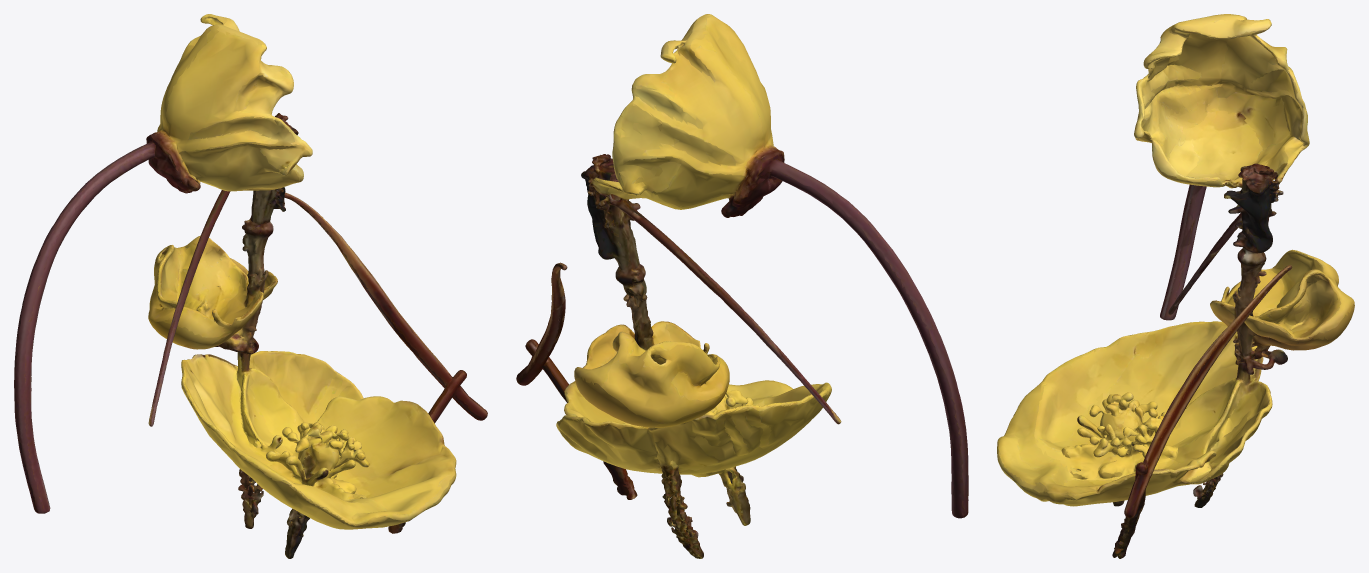
The model's file is meadow-flower-v3.glb.
3 views of the same model, side by side, from view 1: azimuth 30°, elevation 25°; view 2: azimuth 150°, elevation 25°; view 3: azimuth 270°, elevation 25° (orthographic). The views are drawn at different scales.
Visible parts, largest first — view 1: geometry_0; view 2: geometry_0; view 3: geometry_0.
Part boxes in pixels (box(x1,y1,x2,y2)): geometry_0: box(14, 14, 487, 558); geometry_0: box(516, 14, 968, 558); geometry_0: box(997, 14, 1354, 558).
Bounding box in the file's own units: 0.3284 × 0.35 × 0.2337.
Materials: 1 (1 with a texture image).
